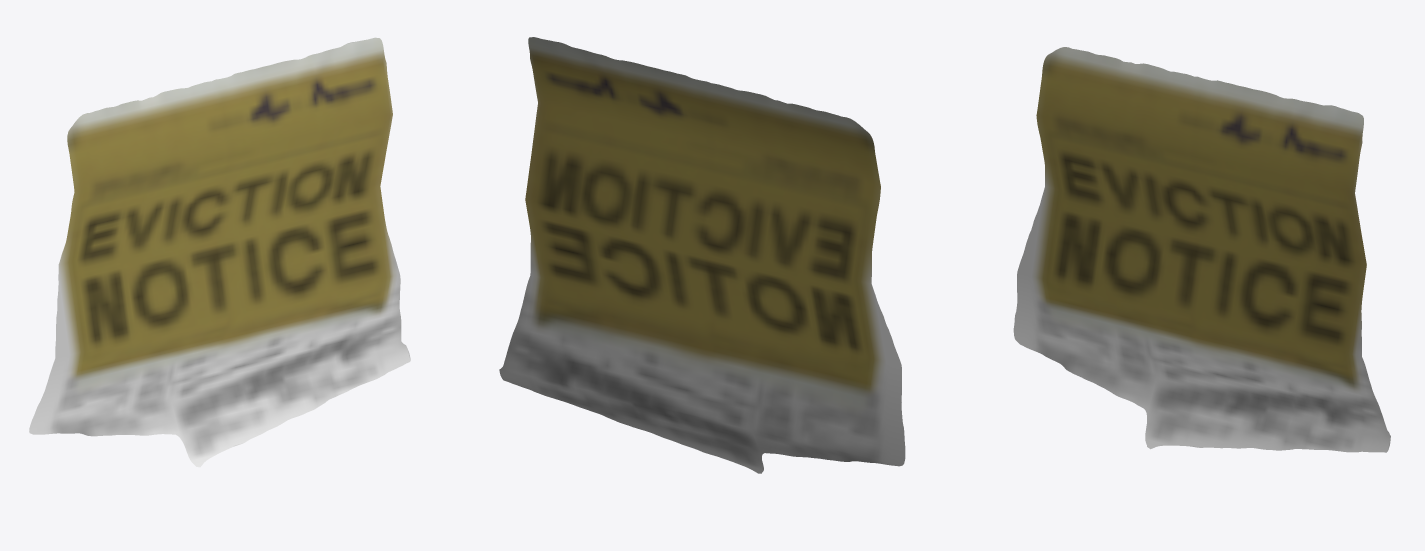
File: eviction_notice.FBX
The picture shows the model from 3 angles, left to right: view 1: azimuth 30°, elevation 25°; view 2: azimuth 150°, elevation 25°; view 3: azimuth 330°, elevation 25°; orthographic projection. The views are drawn at different scales.
Visible parts, largest first — view 1: eviction_notice; view 2: eviction_notice; view 3: eviction_notice.
Boxes of the visible parts, left/top/right/bottom form: eviction_notice: left=29, top=37, right=410, bottom=467; eviction_notice: left=499, top=37, right=905, bottom=473; eviction_notice: left=1013, top=47, right=1390, bottom=452.
Bounding box in the file's own units: 26.49 × 24.99 × 2.86.
